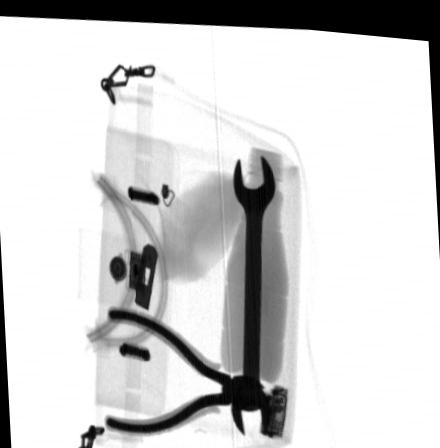Pliers: (103, 304, 270, 433)
Wrench: (232, 149, 274, 431)
